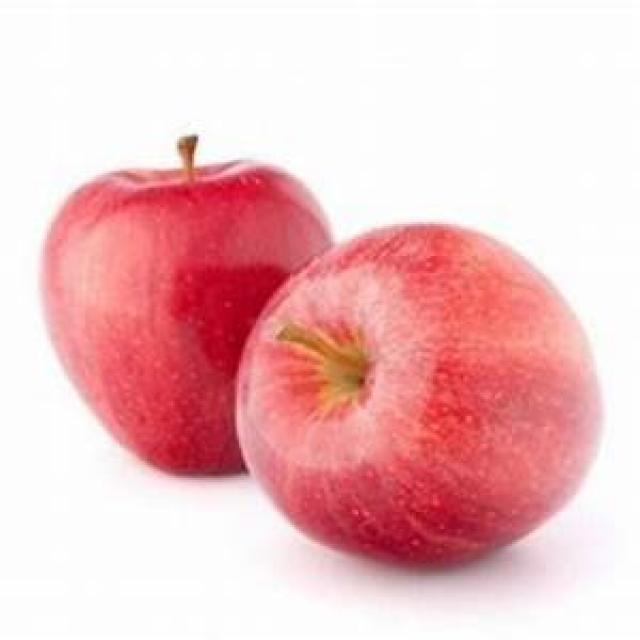apple: (231, 220, 606, 570)
